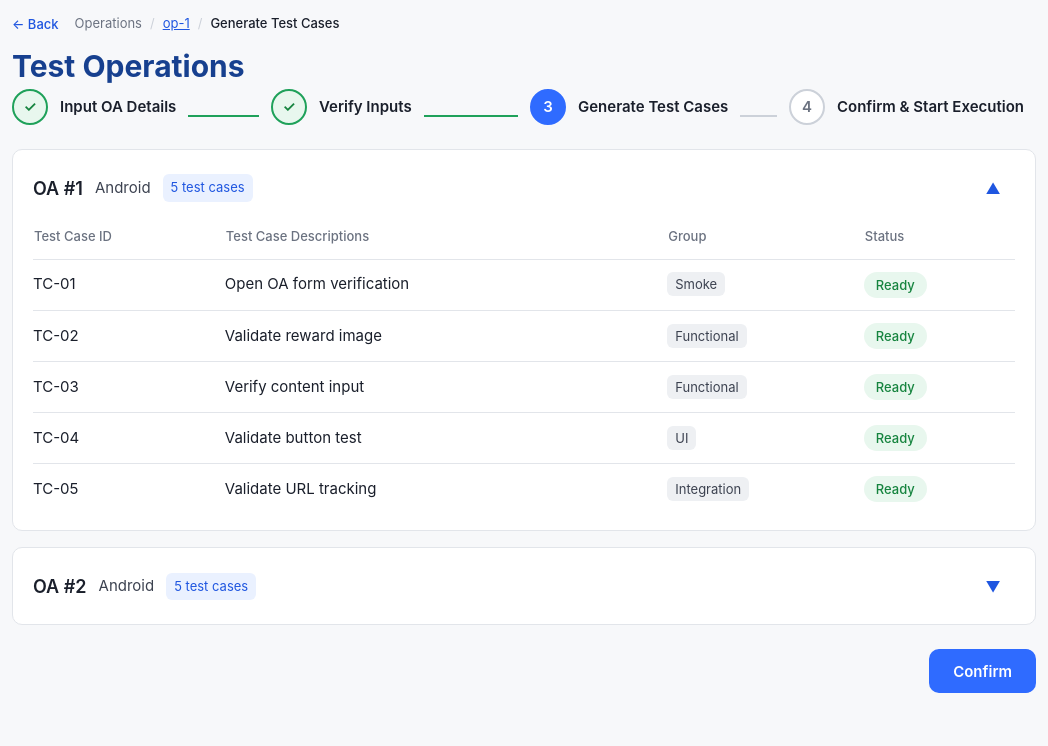
Test: GenerateScreen › expands a script preview without offering add/delete/rerun controls
The width and height of the screenshot is (1048, 746).
What coordinates should you click on to do the following:
click the button "Open OA form verification"
I would click on:
 (317, 285)
Its box is [225,273,409,296].
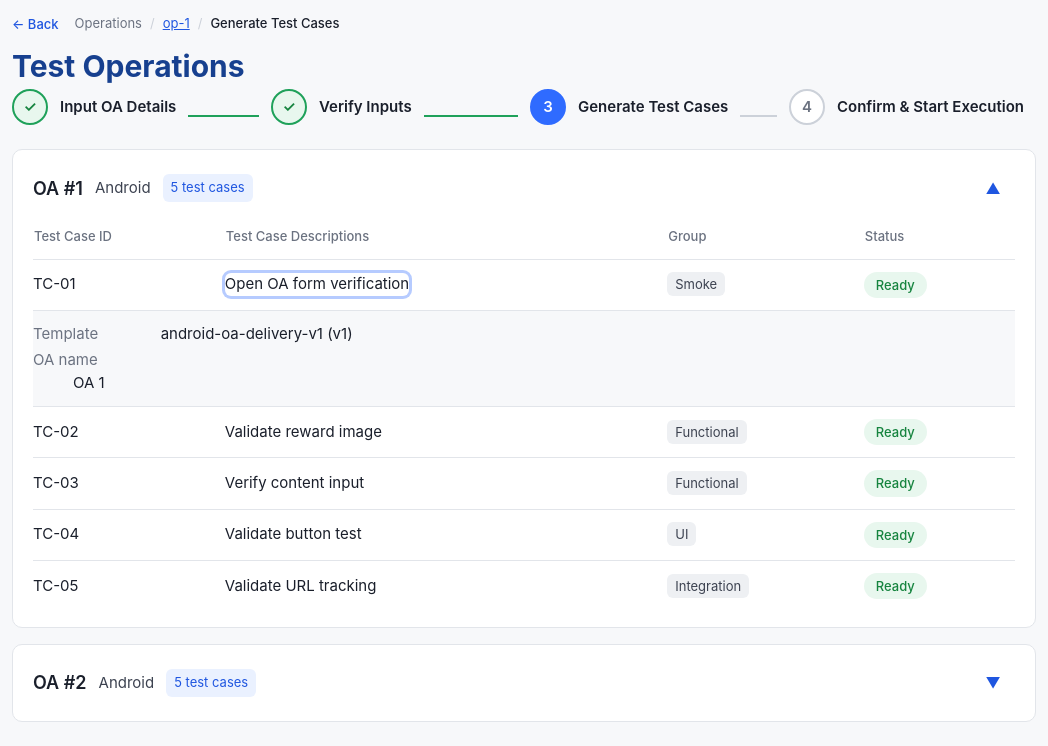
Result: the text "OA name" is shown at [33,349,105,372]
